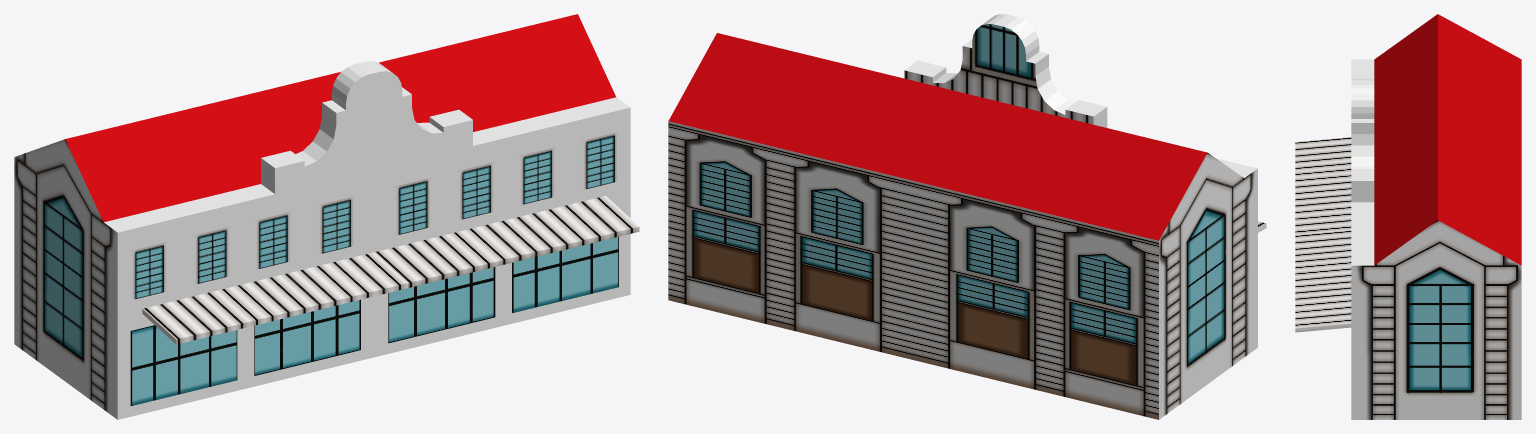
Rendered from Me_OldBuilding.fbx.
3 renders of one model, left to right at view 1: azimuth 30°, elevation 25°; view 2: azimuth 150°, elevation 25°; view 3: azimuth 270°, elevation 25°, orthographic. The views are drawn at different scales.
Parts seen in each view (by area): view 1: Building 1; view 2: Building 1; view 3: Building 1.
Part boxes in pixels (x1,y1,x2,y2): Building 1: (14,14,639,419); Building 1: (668,14,1266,419); Building 1: (1295,14,1521,419).
Size of the model in its own units: 573 by 304 by 265.
